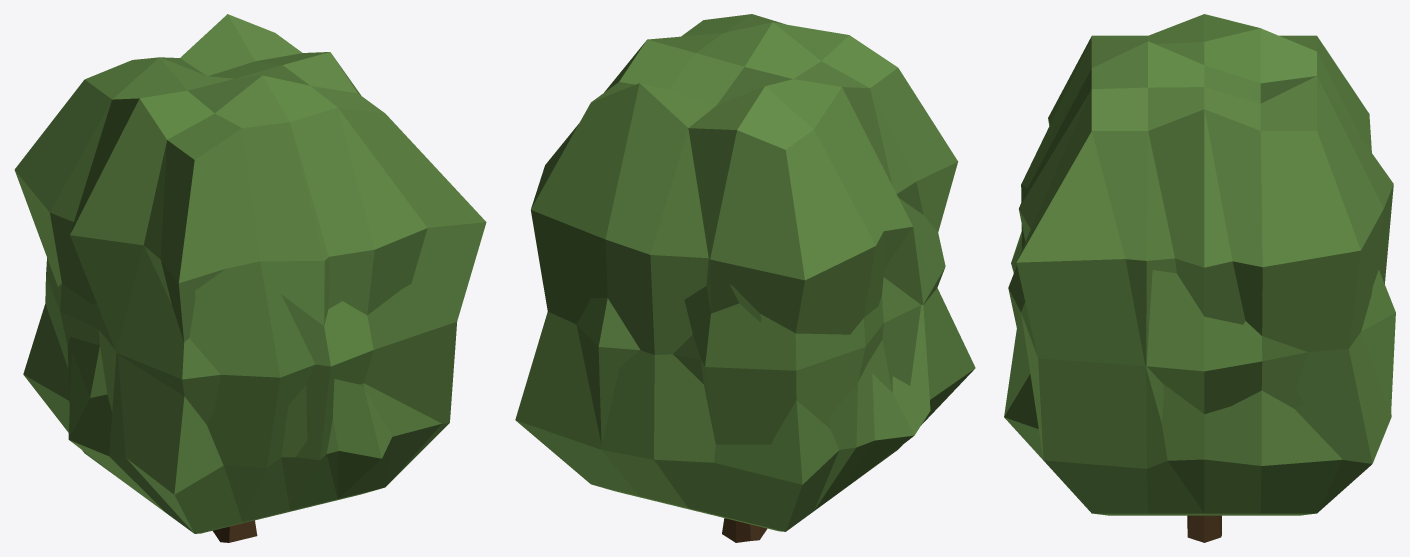
The model's file is Fence.fbx.
The picture shows the model from 3 angles, left to right: view 1: azimuth 30°, elevation 25°; view 2: azimuth 150°, elevation 25°; view 3: azimuth 270°, elevation 25°; orthographic projection. The views are drawn at different scales.
Parts seen in each view (by area): view 1: Tree, Tree.002, Tree.001, Branch; view 2: Tree.001, Tree, Tree.002, Branch; view 3: Tree, Tree.001, Tree.002, Branch.
Part boxes in pixels (bbox=[...]): Tree: bbox=[45, 14, 486, 533]; Tree.002: bbox=[14, 56, 392, 522]; Tree.001: bbox=[23, 98, 441, 533]; Branch: bbox=[213, 520, 257, 542]; Tree.001: bbox=[515, 40, 945, 531]; Tree: bbox=[592, 14, 975, 531]; Tree.002: bbox=[576, 89, 923, 510]; Branch: bbox=[722, 518, 766, 542]; Tree: bbox=[1008, 14, 1316, 515]; Tree.001: bbox=[1019, 69, 1393, 512]; Tree.002: bbox=[1004, 36, 1395, 513]; Branch: bbox=[1187, 515, 1221, 542].
Bounding box in the file's own units: 3.5 × 3.48 × 4.84.
